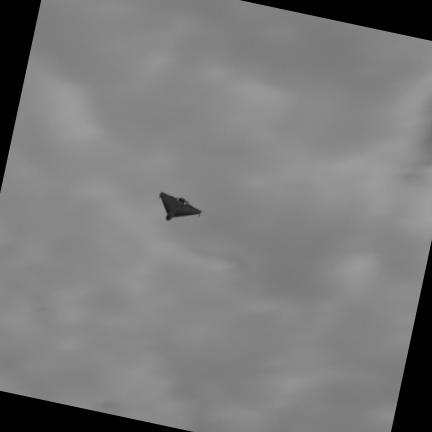Shahed: (159, 193, 201, 220)
